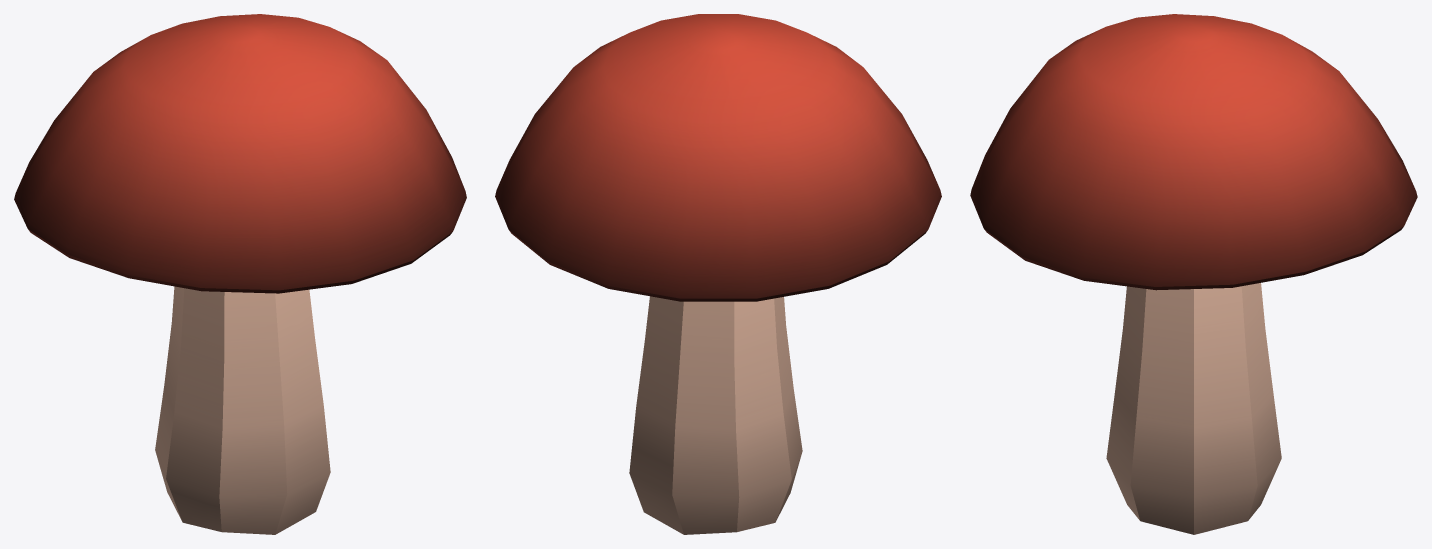
File: mushroom6.fbx
3 views of the same model, side by side, from view 1: azimuth 30°, elevation 25°; view 2: azimuth 150°, elevation 25°; view 3: azimuth 270°, elevation 25° (orthographic).
Parts seen in each view (by area): view 1: mushroom8; view 2: mushroom8; view 3: mushroom8.
Part boxes in pixels (x1=…): mushroom8: x1=14, y1=14, x2=466, y2=534; mushroom8: x1=495, y1=14, x2=941, y2=534; mushroom8: x1=970, y1=14, x2=1417, y2=534.
Bounding box in the file's own units: 52.71 × 64.38 × 53.52.
